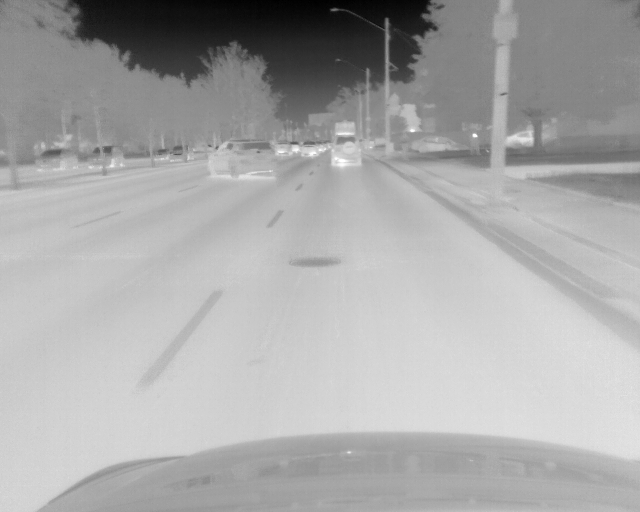car: (206, 139, 275, 180), (330, 122, 363, 169), (412, 134, 469, 155), (33, 148, 80, 173), (86, 146, 126, 171), (506, 128, 551, 149), (169, 144, 195, 164), (300, 141, 319, 159), (273, 140, 291, 158), (155, 147, 167, 162), (291, 141, 300, 156)
